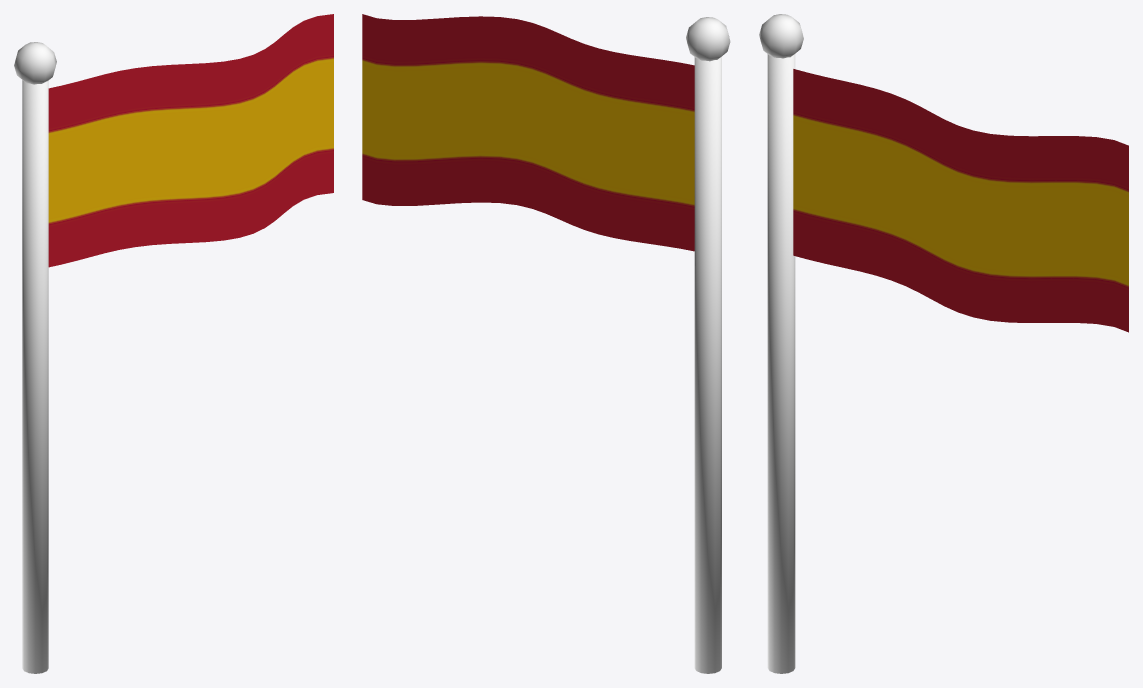
Rendered from FlagSpain.glb.
The picture shows the model from 3 angles, left to right: view 1: azimuth 30°, elevation 25°; view 2: azimuth 150°, elevation 25°; view 3: azimuth 330°, elevation 25°; orthographic projection. The views are drawn at different scales.
Visible parts, largest first — view 1: WaveFlagSpain, WavePoleUSA; view 2: WaveFlagSpain, WavePoleUSA; view 3: WaveFlagSpain, WavePoleUSA.
Part boxes in pixels (<box>): WaveFlagSpain: <box>48,14,333,267</box>; WavePoleUSA: <box>14,42,56,673</box>; WaveFlagSpain: <box>362,14,694,251</box>; WavePoleUSA: <box>686,17,730,673</box>; WaveFlagSpain: <box>793,69,1128,332</box>; WavePoleUSA: <box>759,14,803,673</box>.
Bounding box in the file's own units: 0.8775 × 1.57 × 0.1342.
Materials: 2 (1 with a texture image).
